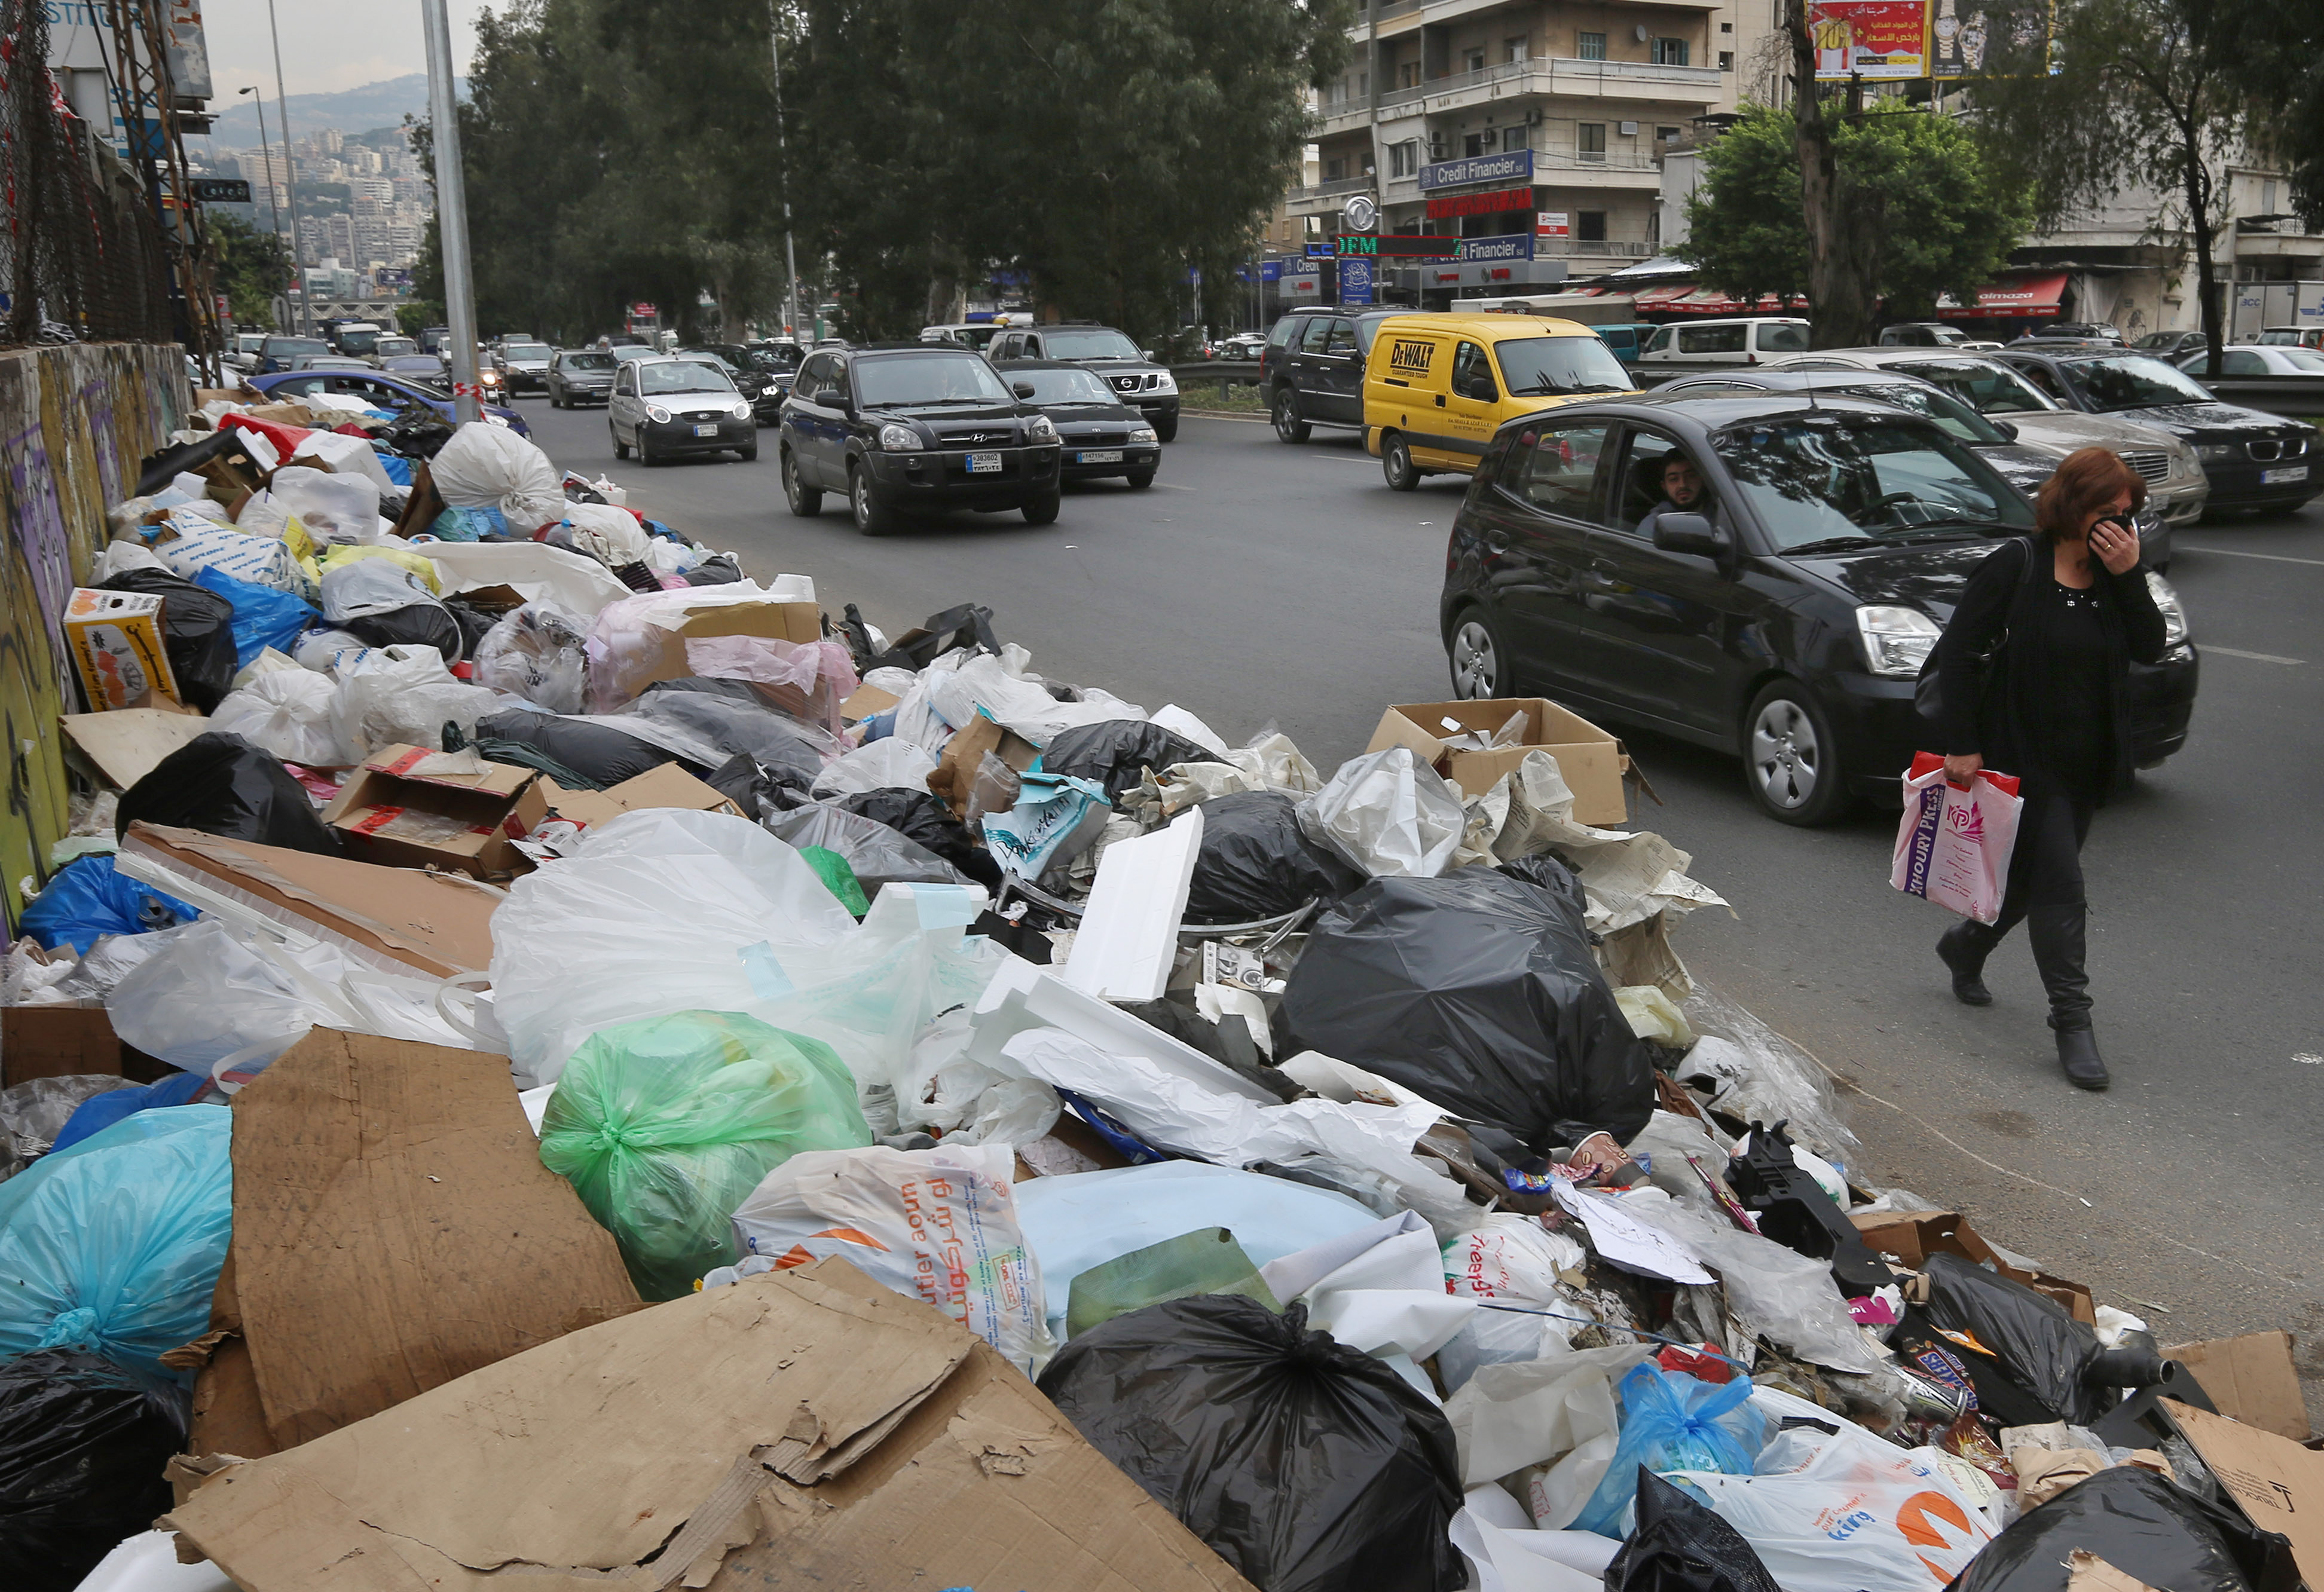trash: (57, 327, 2071, 1564)
